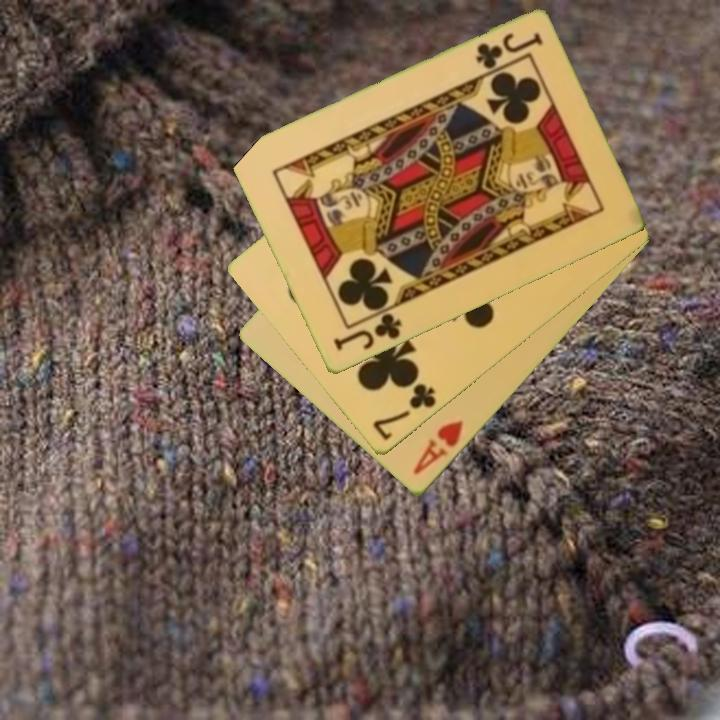7c: (369, 380, 439, 444)
Ah: (409, 417, 467, 478)
Jc: (329, 309, 404, 354), (472, 29, 546, 73)
